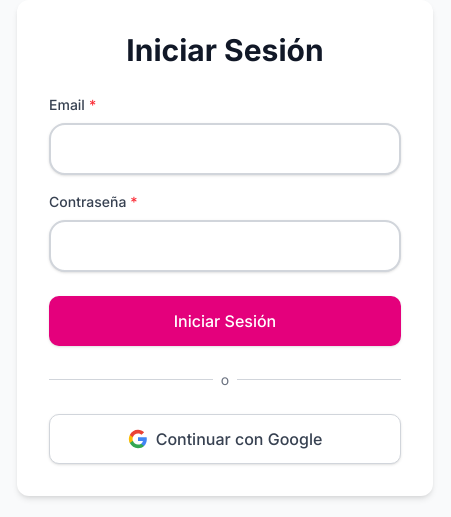
Test: LoginForm - Accessibility Tests › Keyboard Navigation › should disable tab navigation to buttons during loading state
The image size is (451, 517).
Type "test@example.com" into the field labelled "Email*" at (225, 148), box [49, 122, 401, 174]
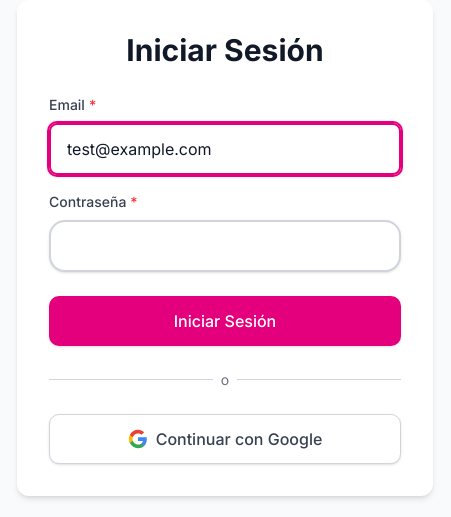
Type "password123" into the password field labelled "Contraseña*" at (225, 246), box [49, 220, 401, 272]
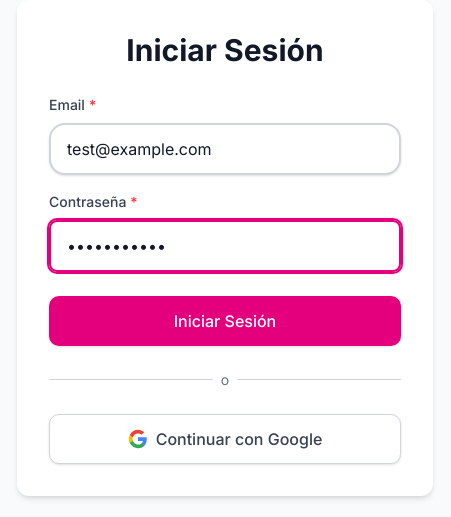
Click the button "Iniciar Sesión" at (225, 320), box [49, 296, 401, 346]
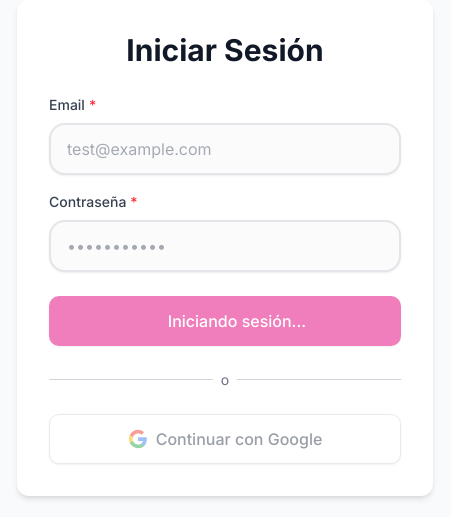
Expected: the button "Iniciando sesión..." is disabled, [49, 296, 401, 346]
Expected: the button "Continuar con Google" is disabled, [49, 414, 401, 464]
